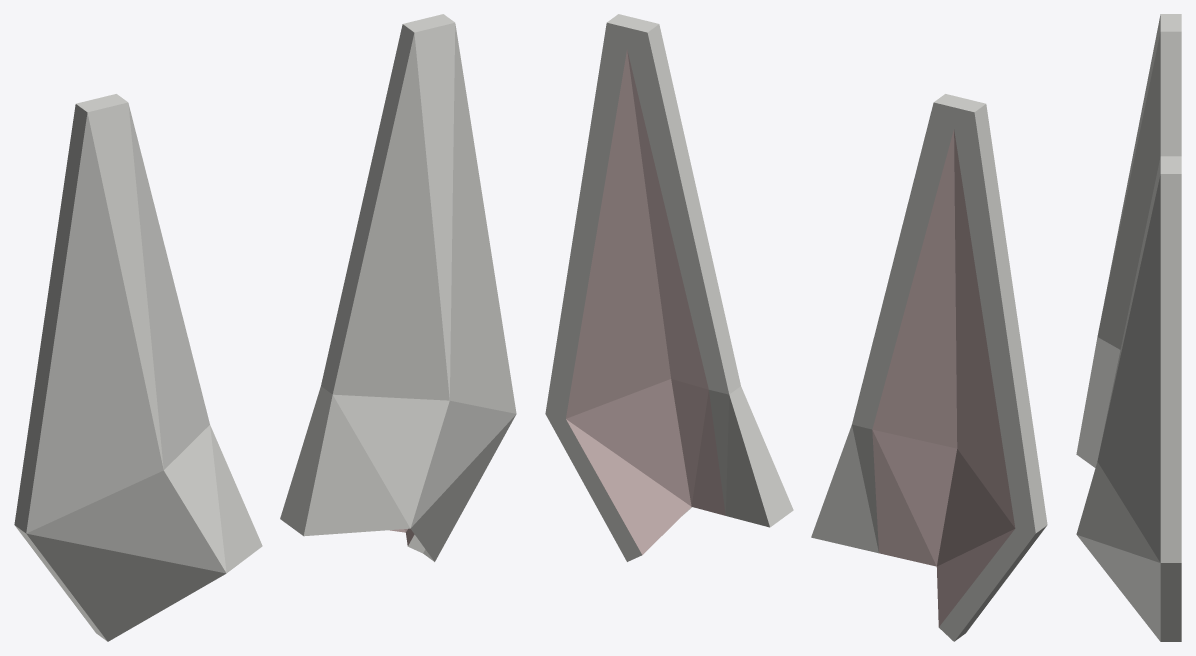
File: itm_model_headA_bunny_ears.obj
The picture shows the model from 3 angles, left to right: view 1: azimuth 30°, elevation 25°; view 2: azimuth 150°, elevation 25°; view 3: azimuth 270°, elevation 25°; orthographic projection. The views are drawn at different scales.
Size of the model in its own units: 0.75 by 0.7812 by 0.1562.
